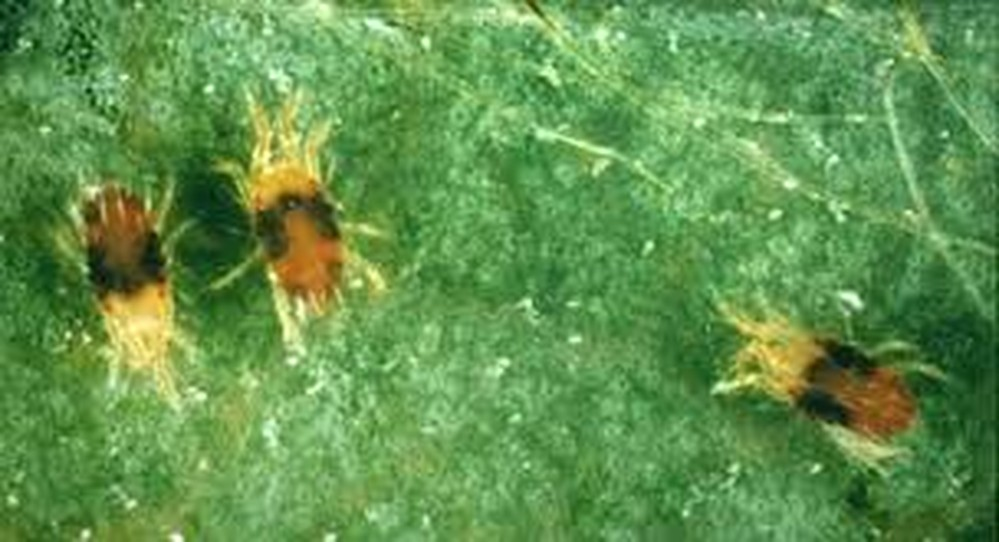Aracnido Rojo: (204, 95, 423, 358), (695, 287, 963, 472), (50, 154, 203, 406)
